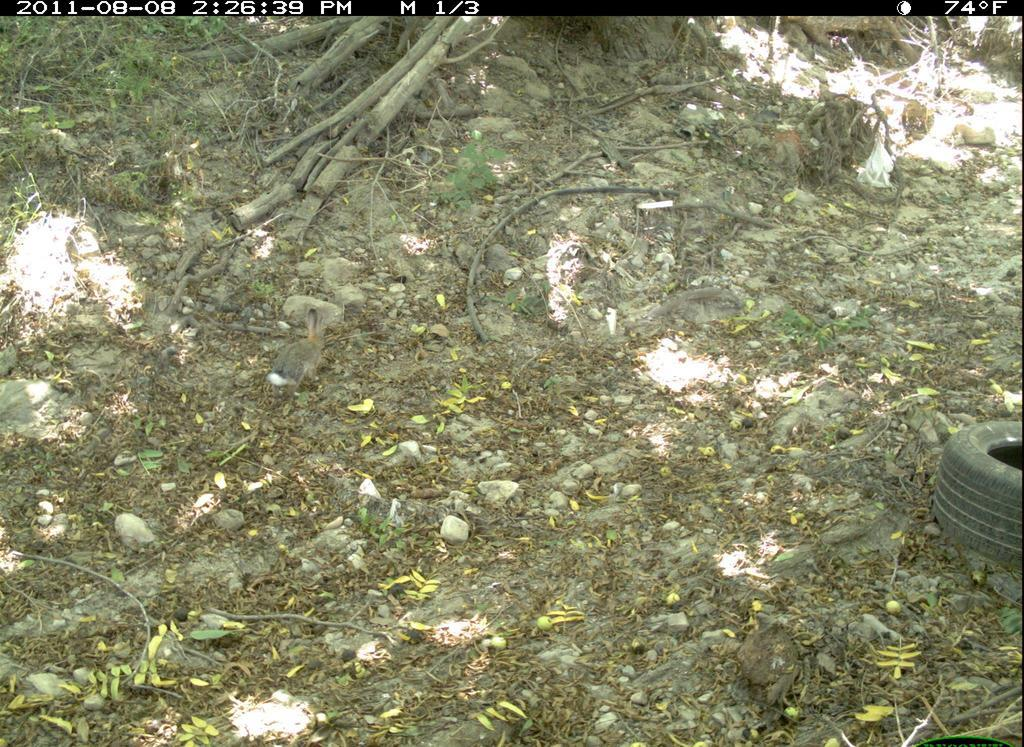rabbit: (253, 301, 332, 406)
